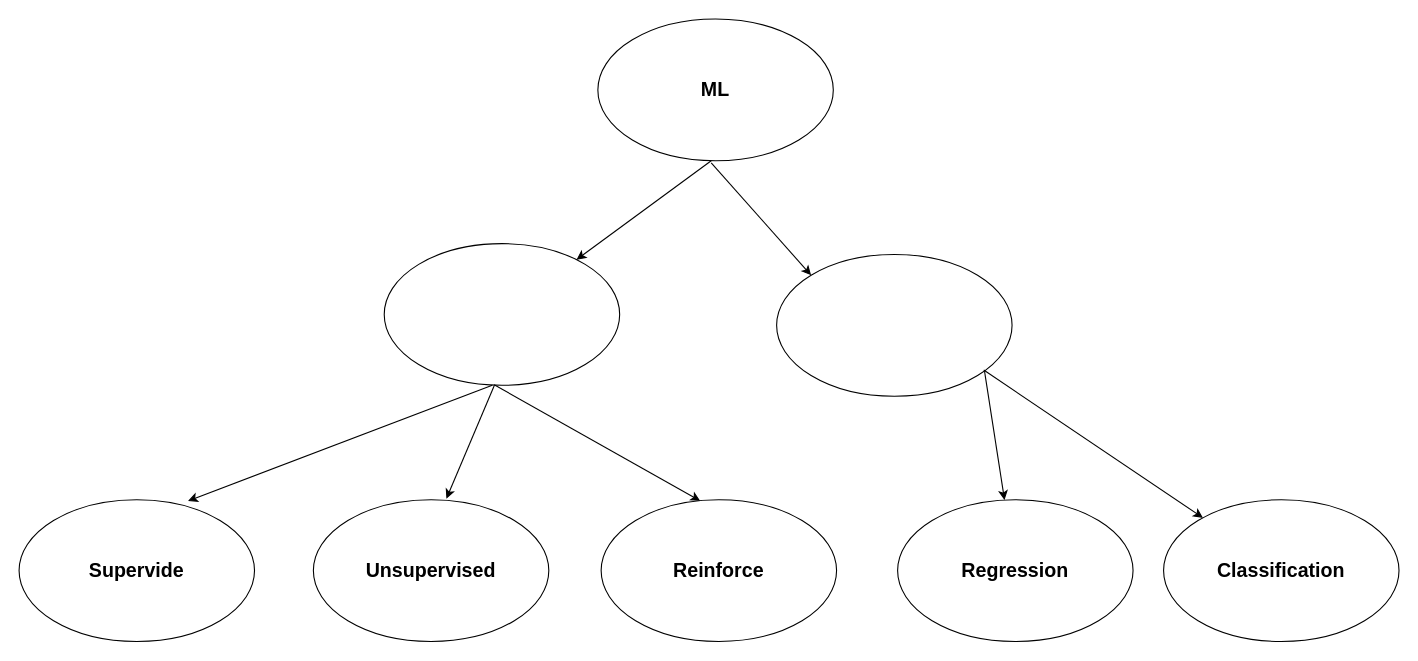
Image size: 1418x661. Some labels were removed from this diagram. Here are the shapes that lost their labels. From the top down, the centre of each, then its label:
At (501,314): "Input".
At (894,324): "Output".
